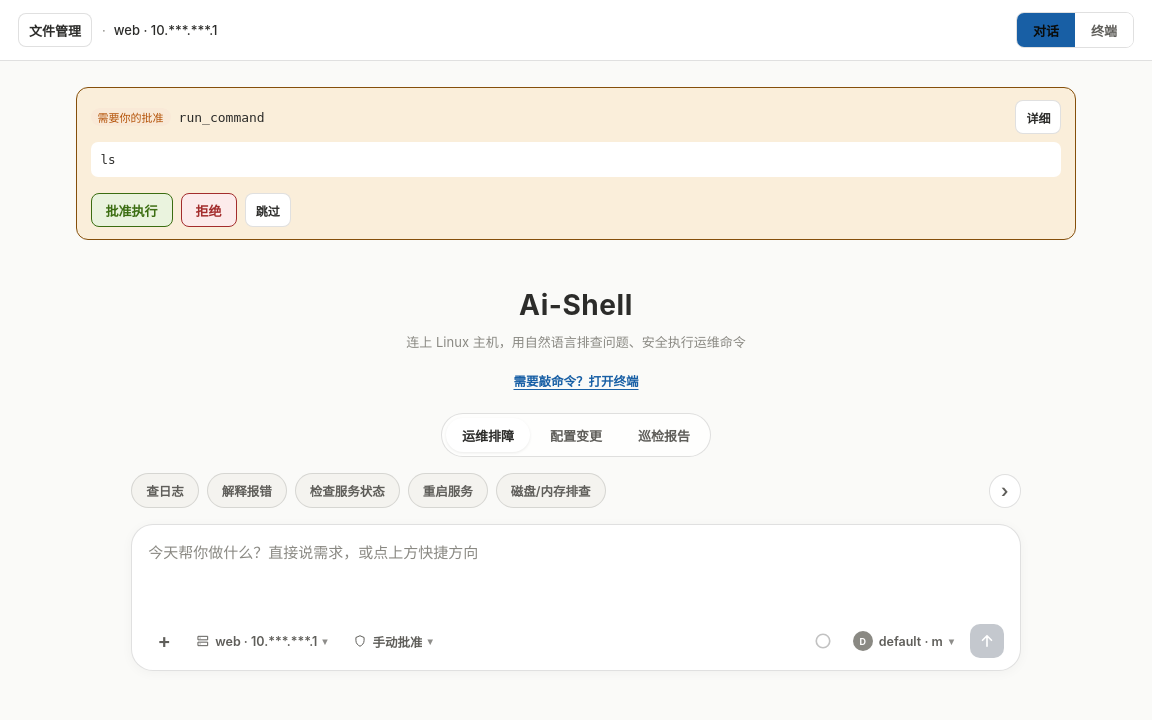
it: ConsolePanel 审批条 › 审批失效时审批条收起并显示错误，不显示「已批准执行」
Click the button "批准执行".
click(132, 210)  # box [91,193,173,227]
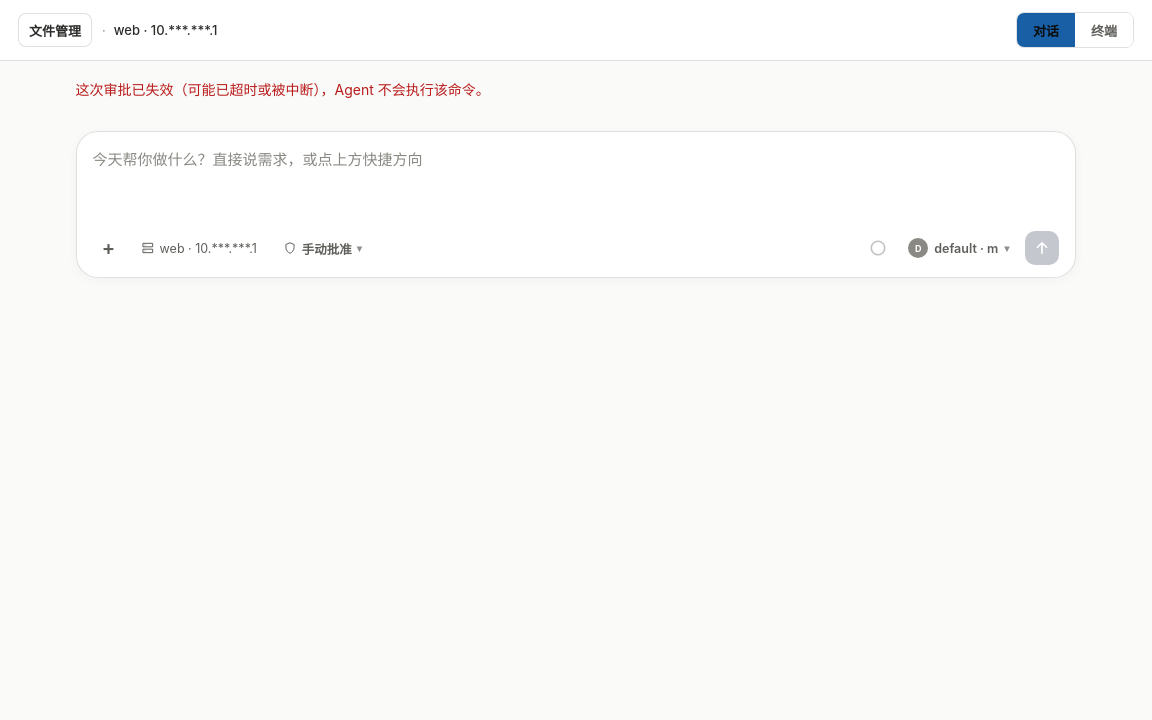
expect the text "已失效" is shown: met, box [76,81,490,98]
